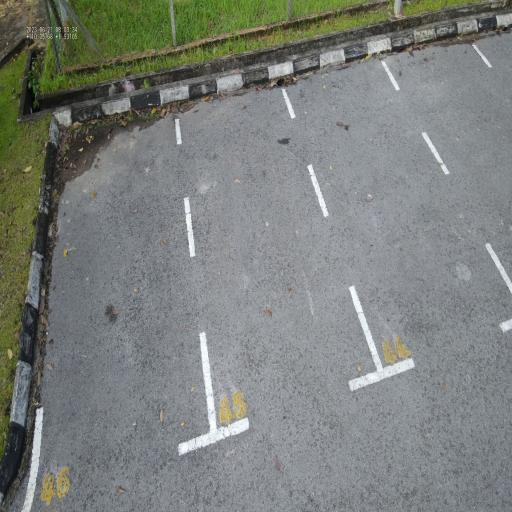Empty: (19, 80, 224, 512), (170, 77, 389, 446)
